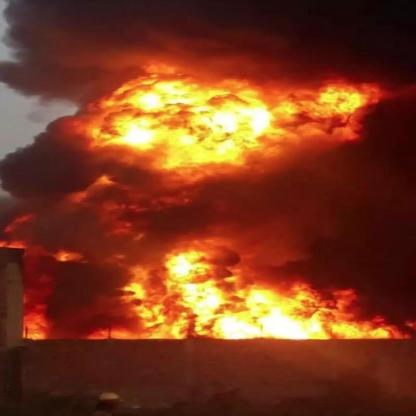fire: (70, 64, 379, 182), (114, 238, 403, 347)
